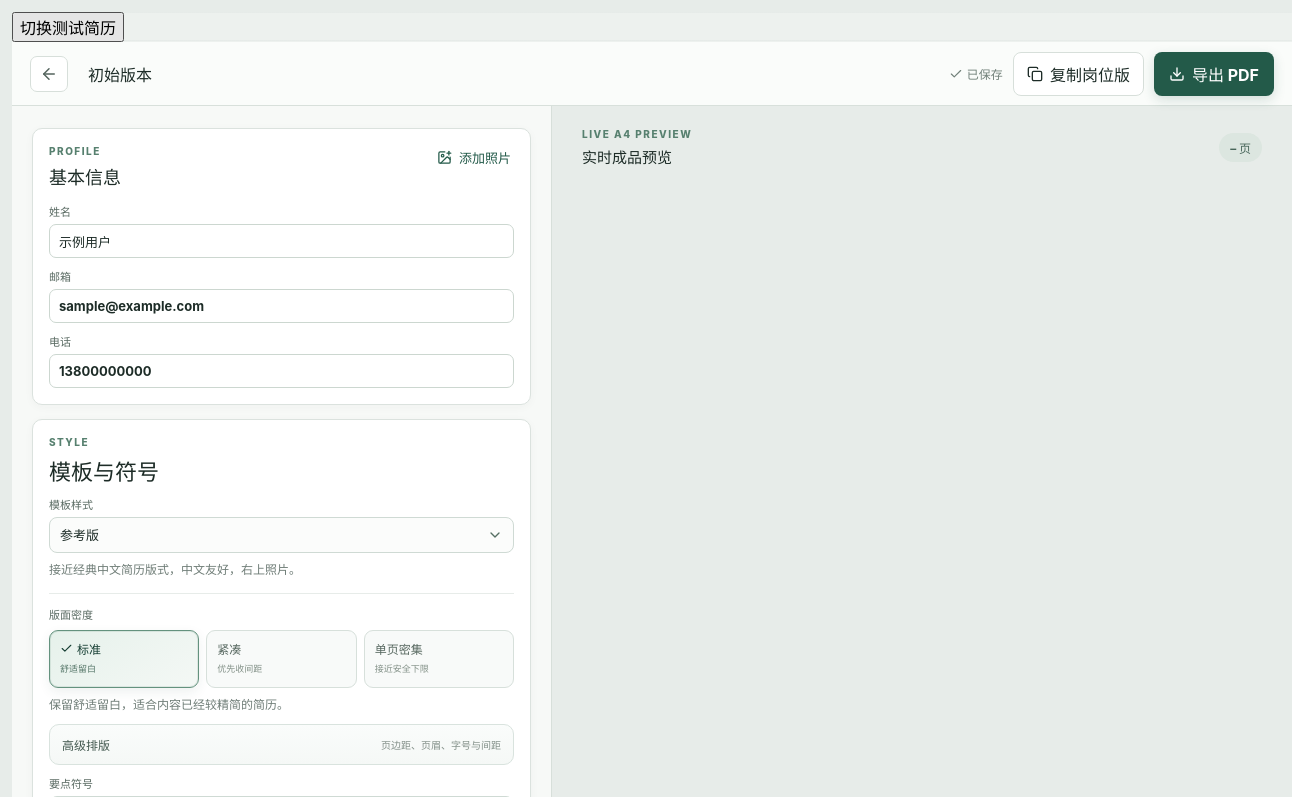
Test: EditorPage reliability › keeps the editor visible when PDF generation fails
Expected: the field showing "初始版本" is shown, left=78, top=54, right=578, bottom=92
Click the button "导出 PDF".
click(1214, 74)  # box left=1154, top=52, right=1274, bottom=96
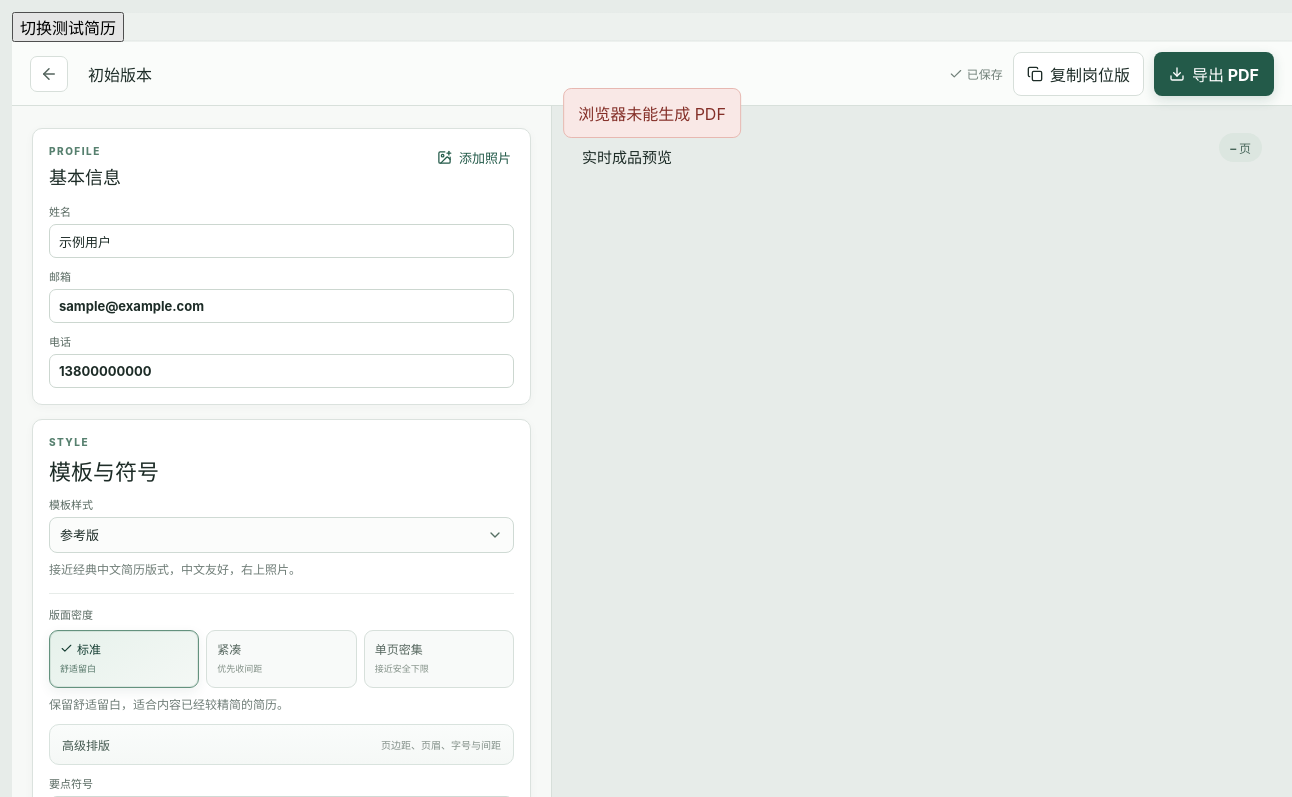
Expected: the field showing "初始版本" is shown, left=78, top=54, right=578, bottom=92
Result: the text "浏览器未能生成 PDF" is shown at left=563, top=88, right=741, bottom=138
